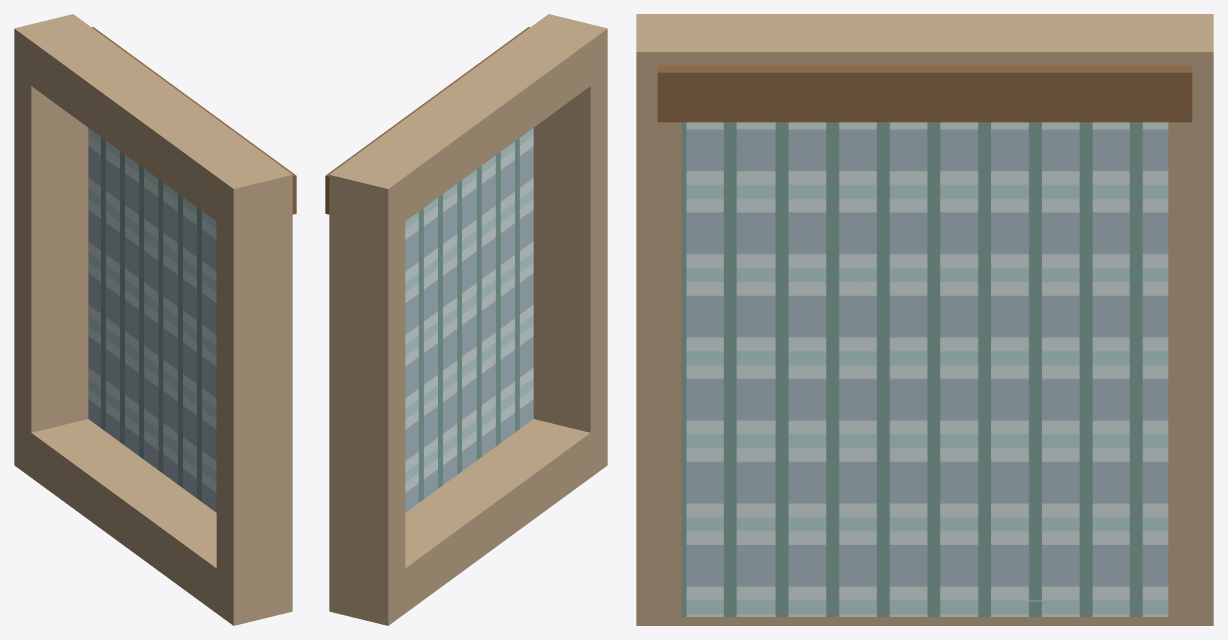
Rendered from cat flap.fbx.
3 renders of one model, left to right at view 1: azimuth 30°, elevation 25°; view 2: azimuth 150°, elevation 25°; view 3: azimuth 270°, elevation 25°, orthographic. The views are drawn at different scales.
Visible parts, largest first — view 1: Cube, Cube.001; view 2: Cube, Cube.001; view 3: Cube.001, Cube.
Part boxes in pixels (bbox=[...]): Cube: bbox=[14, 14, 292, 625]; Cube.001: bbox=[88, 27, 296, 512]; Cube: bbox=[329, 14, 607, 625]; Cube.001: bbox=[325, 27, 533, 512]; Cube.001: bbox=[657, 65, 1192, 616]; Cube: bbox=[636, 14, 1213, 625].
Size of the model in its own units: 90.5 by 531 by 484.
Materials: 3 (1 with a texture image).
